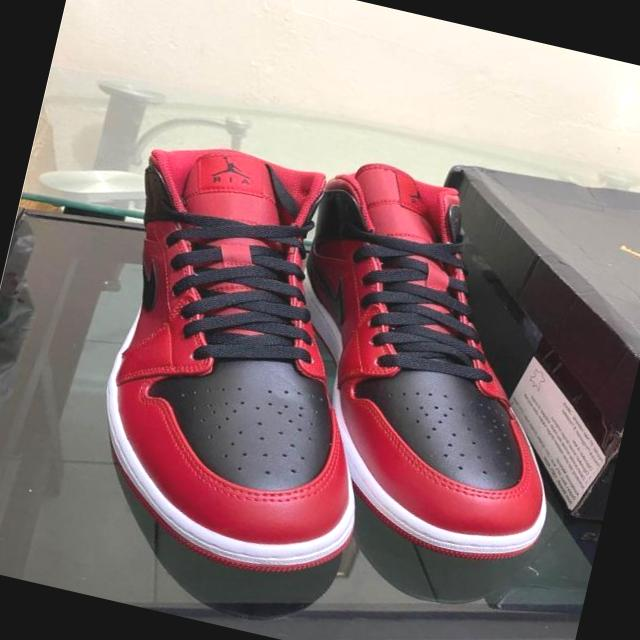nike_original_jordan: (242, 100, 631, 578), (58, 130, 433, 592)
